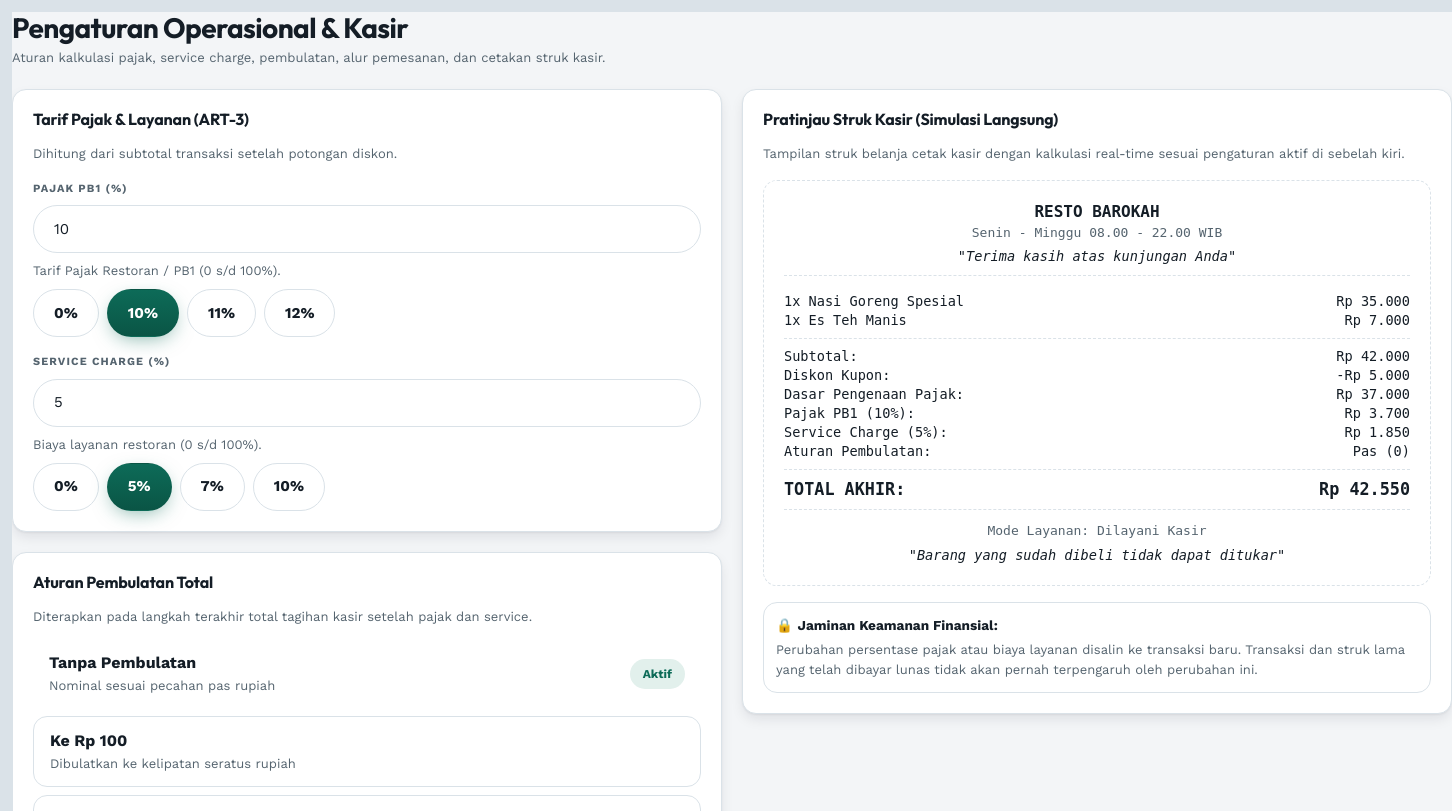
Scenario: Operasional (Pengaturan Operasional & Kasir — T9-03 / PRD M2, M6 / ART-3) › memilih tombol cepat persentase Service Charge memperbarui nilai input dan kalkulasi
Click the button named "pilih service charge 7 persen" at (212, 487), box [180,463,245,511]
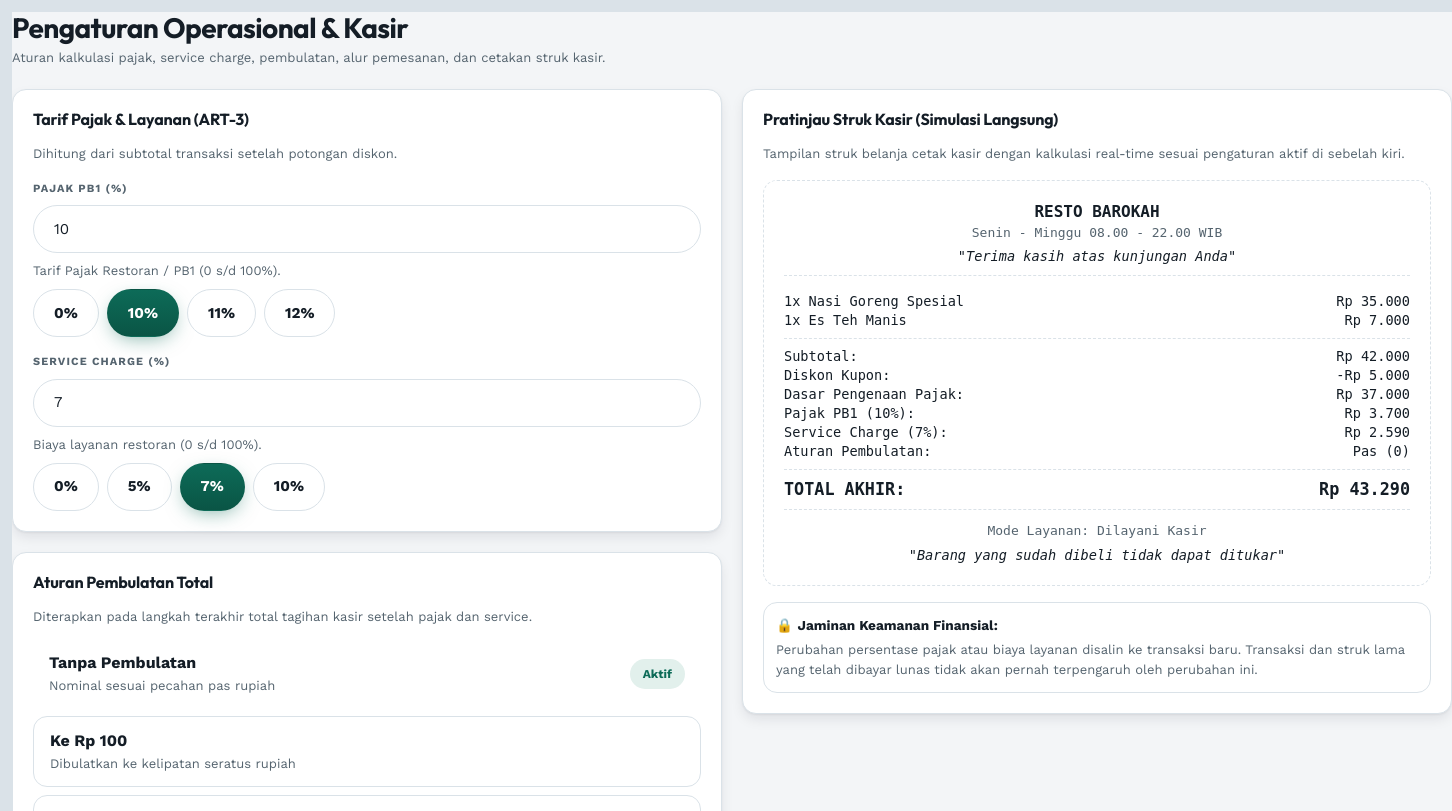
Expected: the number field labelled "Service Charge (%)" holds "7", [33,378,701,426]
Expected: the text "Service Charge (7%):" is shown, [784,423,948,442]
